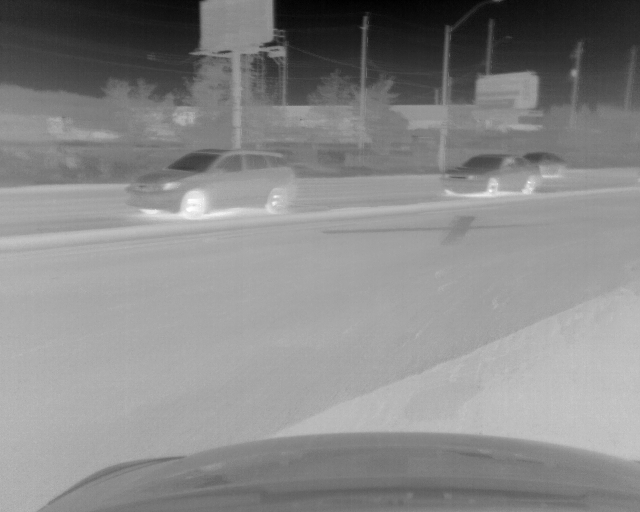car: (122, 148, 297, 220), (439, 153, 537, 196), (524, 150, 570, 177)
